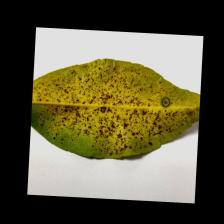canker: (59, 78, 178, 136)
